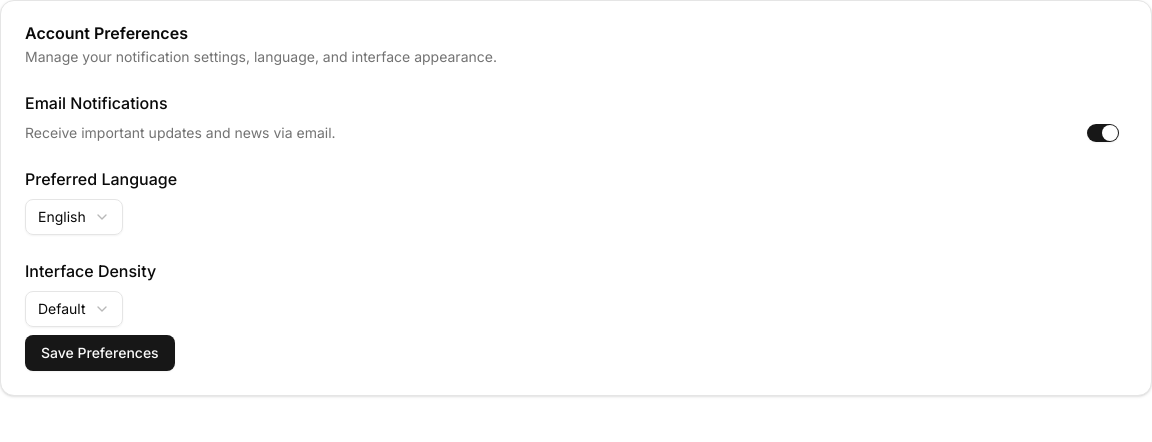
Test: Profile Update Flow Integration › Account Preferences Update › should handle preference validation errors
The width and height of the screenshot is (1152, 442).
Click the button "Save Preferences". click: (100, 353)
box: x1=25 y1=335 x2=175 y2=371
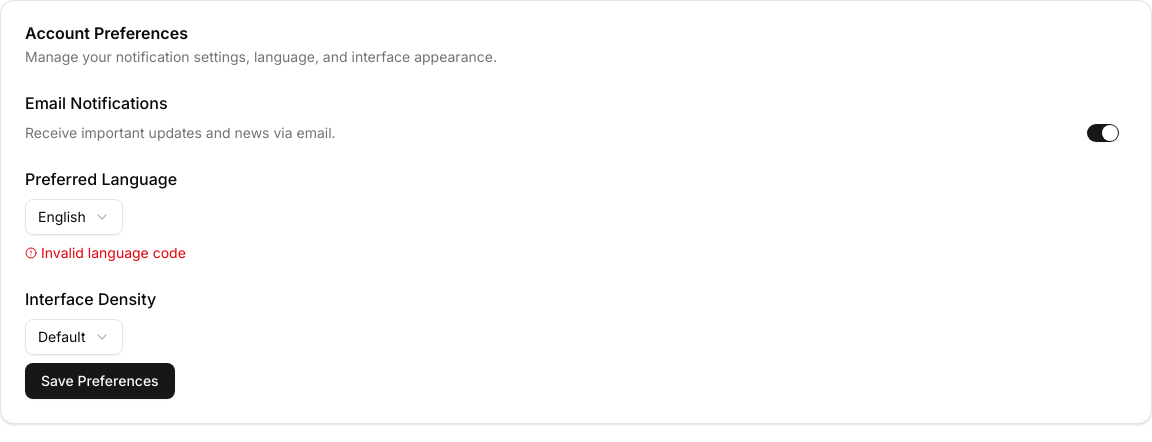
Check: the text "Invalid language code" is shown, box x1=41 y1=243 x2=186 y2=263
